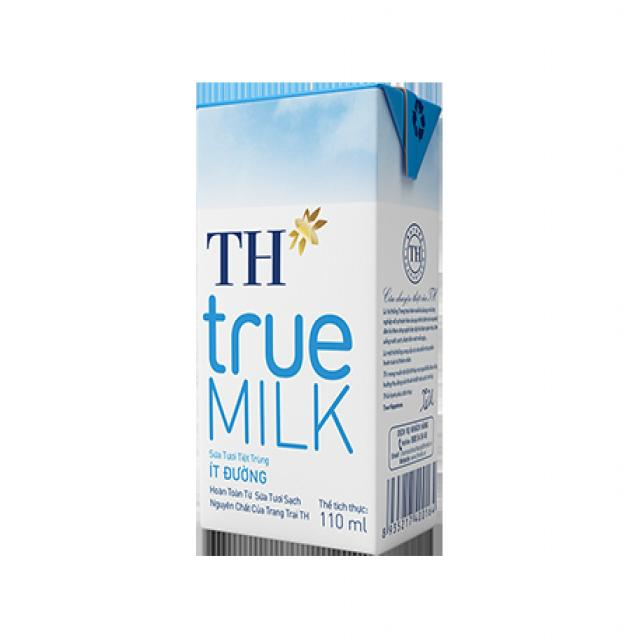non_white_jug: (182, 61, 452, 566)
